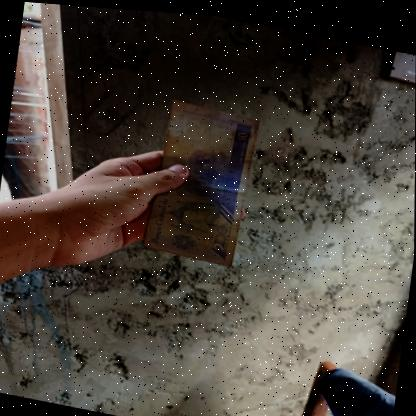ten-back-vef: (142, 93, 259, 266)
